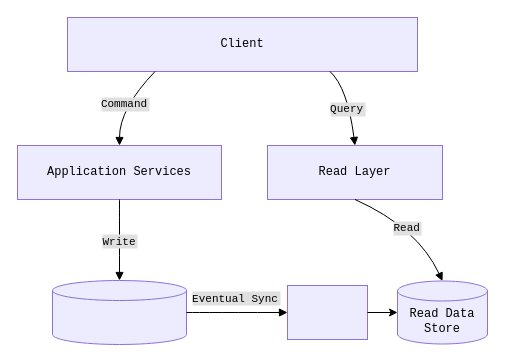
Some shapes in this 505 by 362 pixel diagram are drawn without their labels. The centre of each missing label's shape, as x and y in pixels:
"Event Handlers" goes at pixel 327 312.
"Event Store" goes at pixel 119 312.
